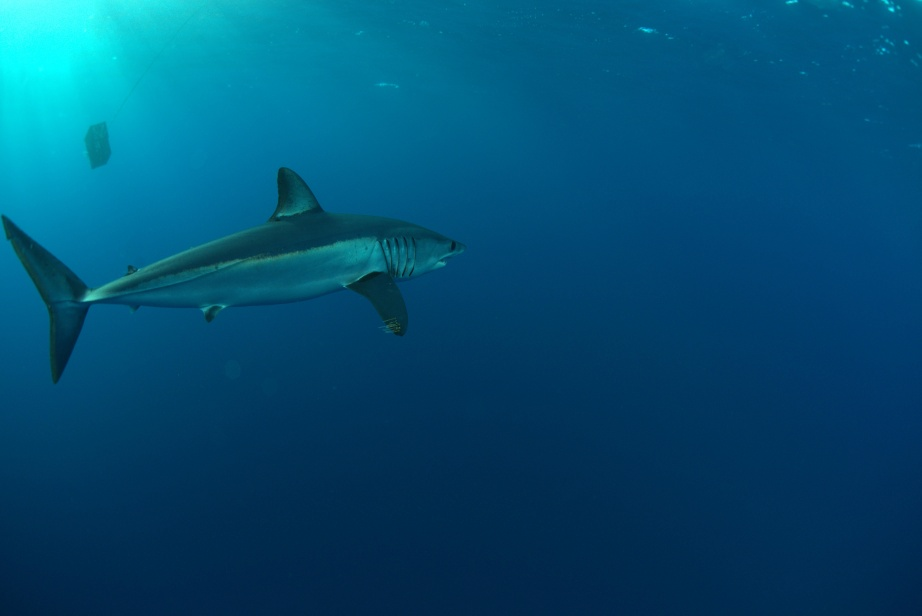Mako: (1, 171, 506, 390)
